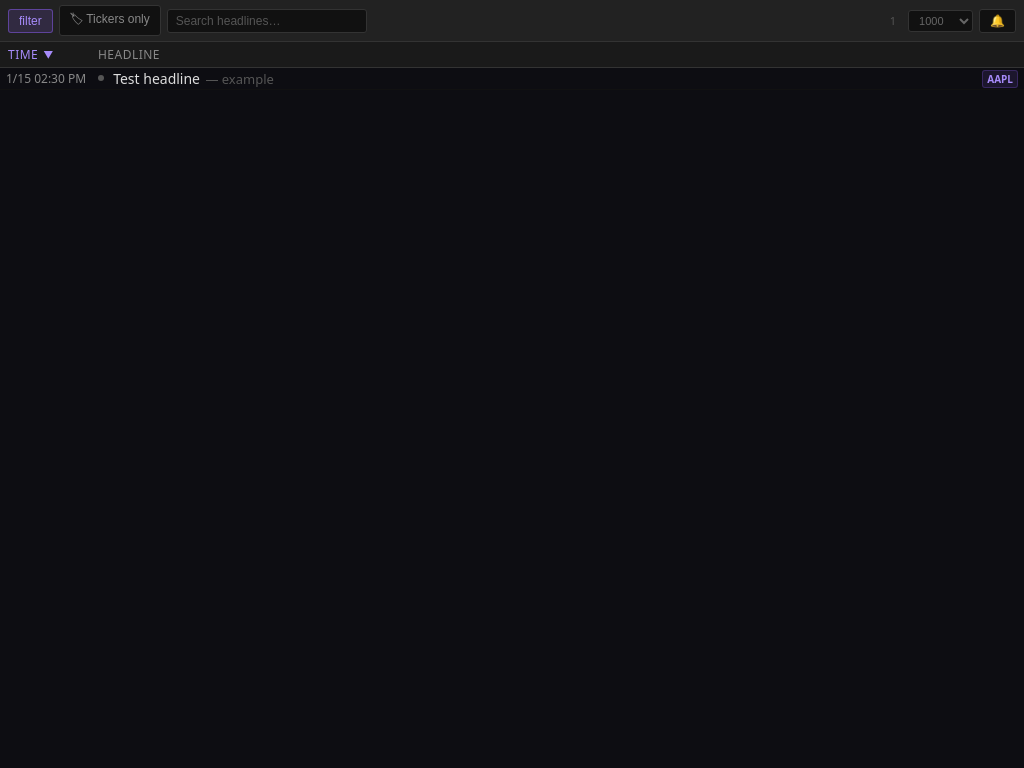
it: modal open and close › with modal close button click expect modal dismissed
Click the element showing "1/15 02:30 PM Test headline — example AAPL". click: (512, 79)
box: [0,68,1023,90]
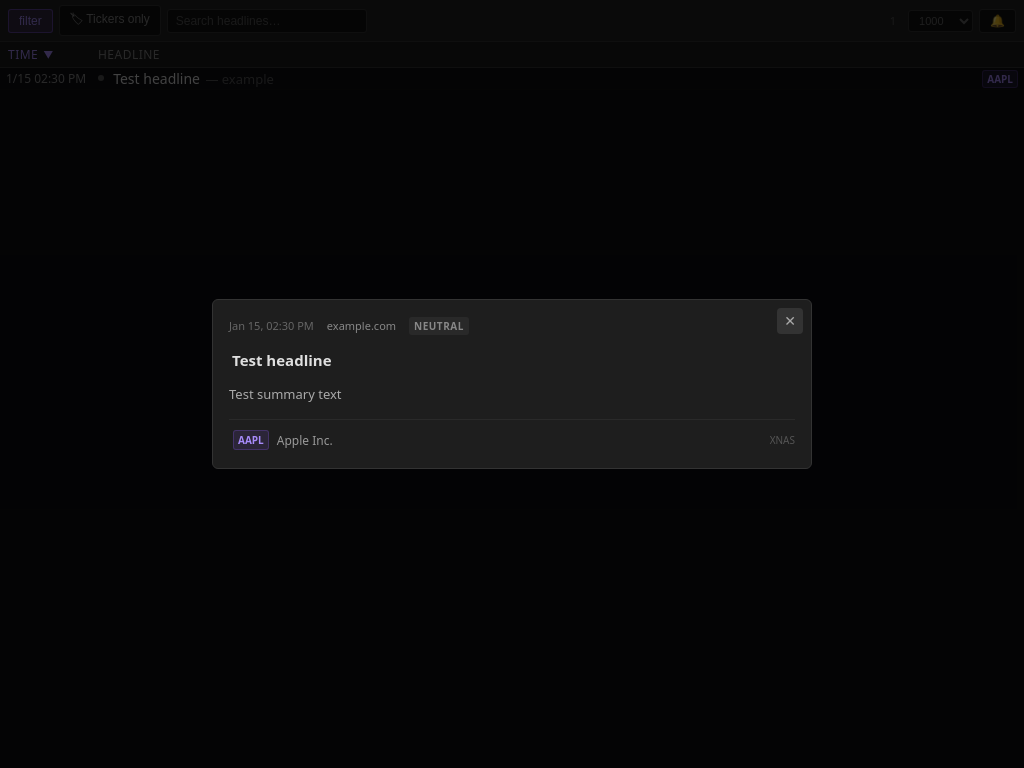
Expected: the element with class "modal-card" is shown, [212,299,812,469]
// Act — click ✕ button
Click the button with class "modal-close". click: (790, 321)
box: [777,308,803,334]
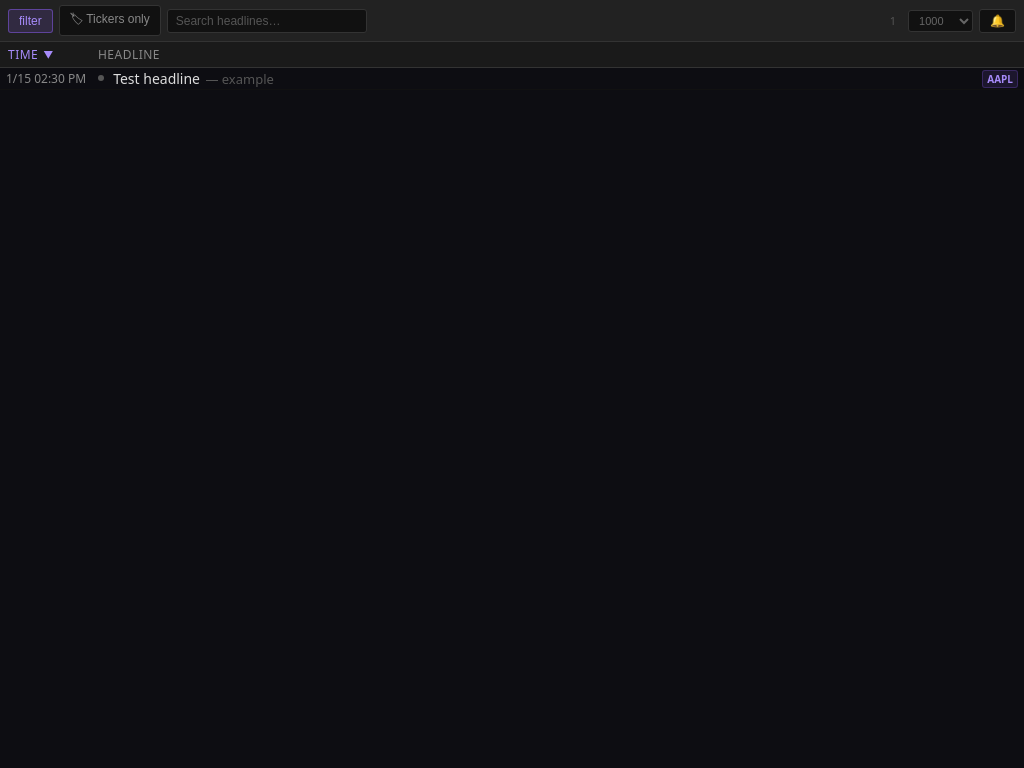
Expected: the element with class "modal-card" is gone
